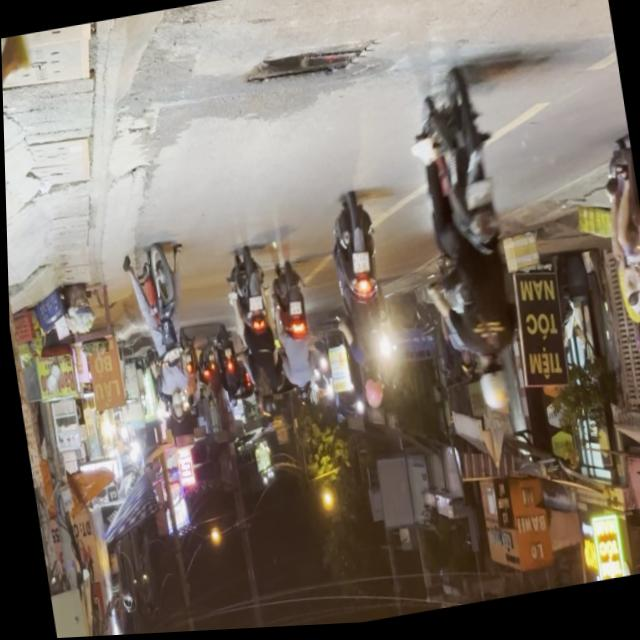helmet: (473, 360, 511, 419), (359, 373, 383, 413), (255, 392, 273, 420), (631, 331, 640, 366)
licenseplate: (401, 72, 534, 428), (320, 194, 402, 418), (121, 238, 204, 438), (219, 247, 287, 427), (592, 133, 640, 369)
motorcyclist: (164, 391, 186, 426)
nohelmet: (461, 183, 495, 215), (348, 253, 368, 278), (245, 297, 261, 313)
